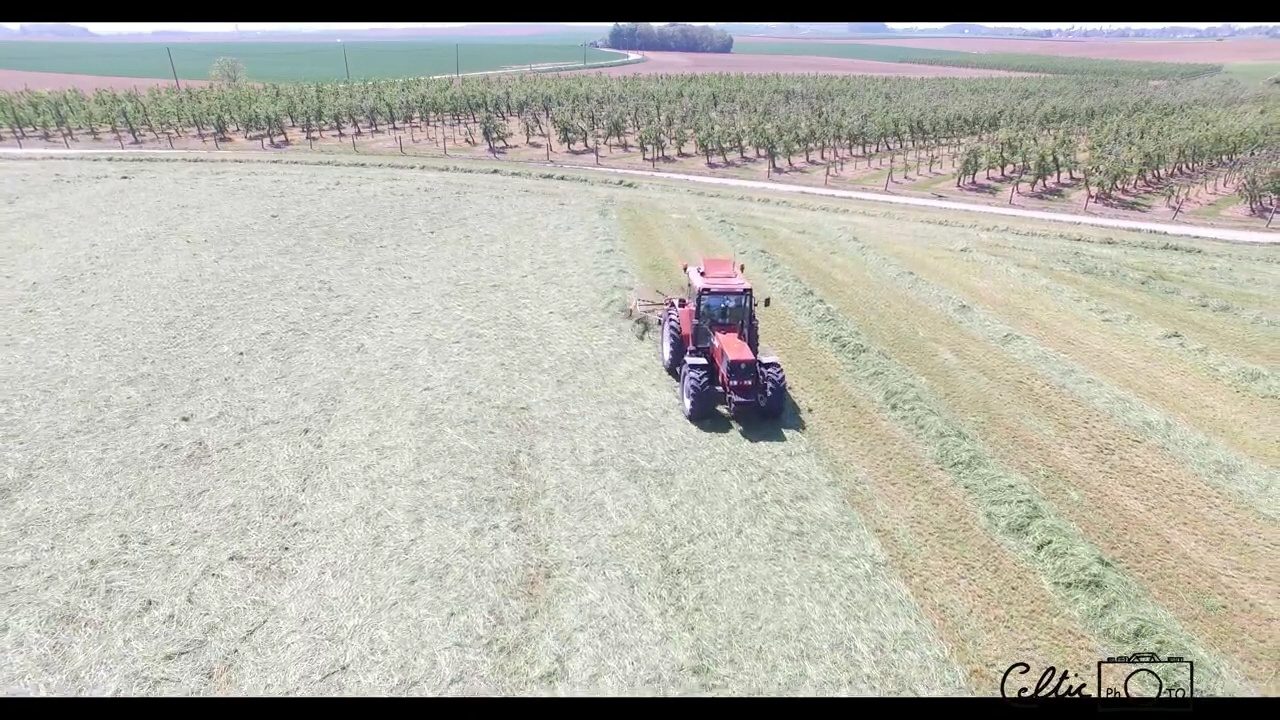traktor: (654, 254, 791, 421)
